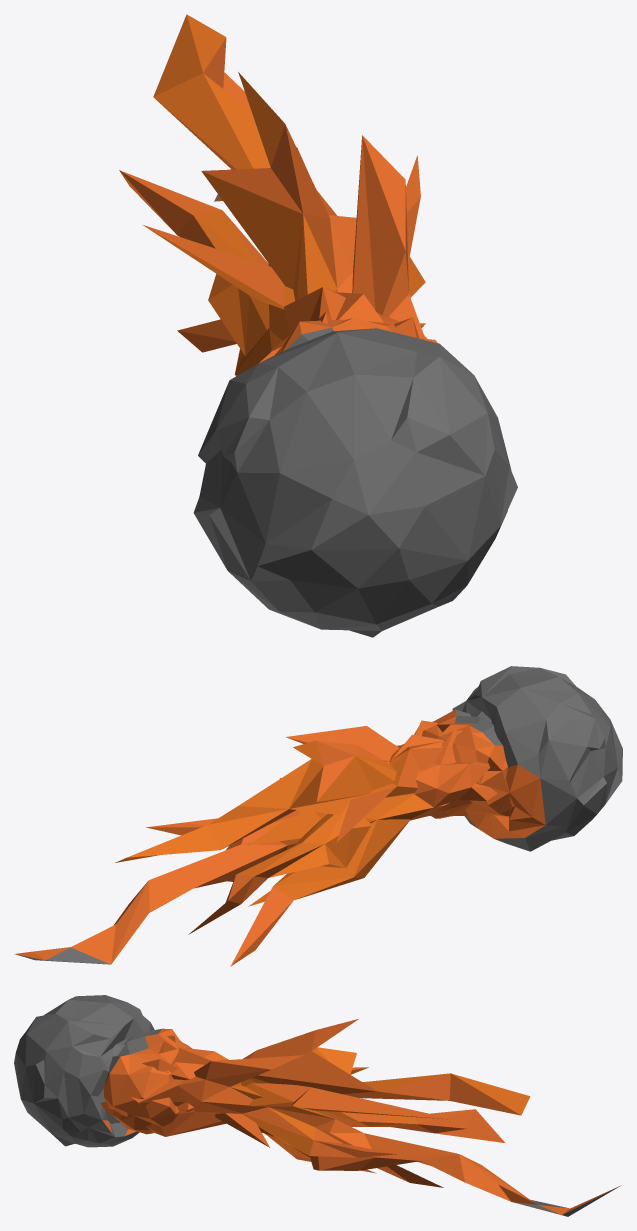
The model's file is meteor.glb.
3 views of the same model, one above another, from view 1: azimuth 30°, elevation 25°; view 2: azimuth 150°, elevation 25°; view 3: azimuth 270°, elevation 25° (orthographic). The views are drawn at different scales.
Visible parts, largest first — view 1: Destroy; view 2: Destroy; view 3: Destroy.
Part boxes in pixels (x1=…): Destroy: x1=119, y1=14, x2=517, y2=637; Destroy: x1=14, y1=666, x2=622, y2=966; Destroy: x1=14, y1=995, x2=621, y2=1216.
Bounding box in the file's own units: 93.68 × 54.18 × 183.
